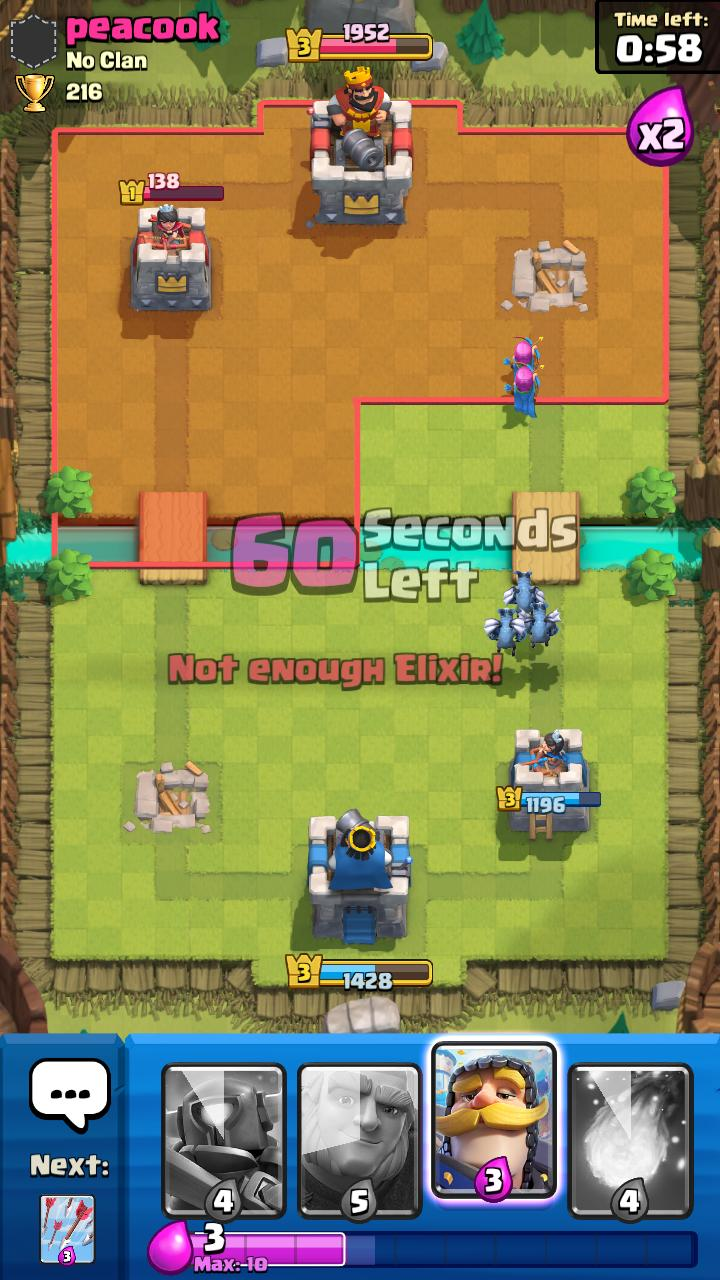ally: (503, 361, 545, 418), (484, 607, 526, 656), (518, 603, 562, 649), (502, 571, 545, 617), (503, 335, 544, 383)
